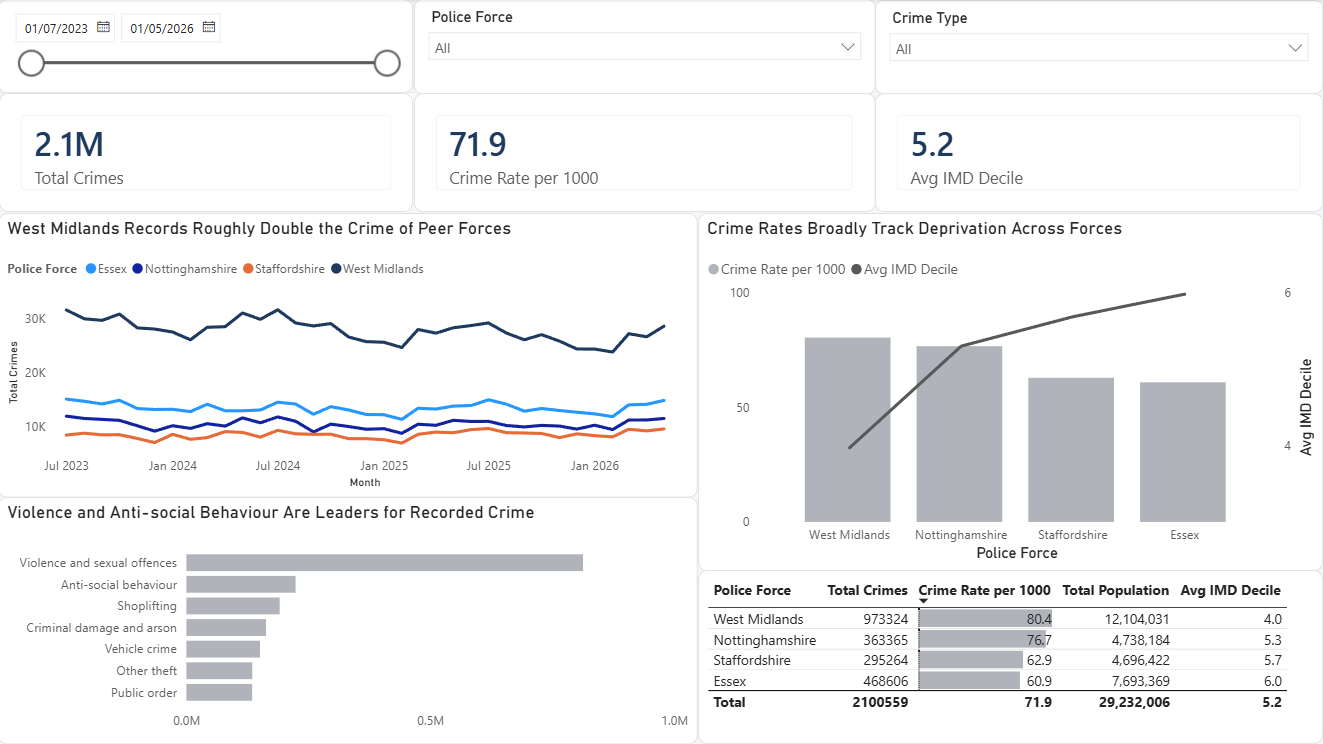

What the dashboard file says about the page in this screenshot:
{"tool":"powerbi","page":{"name":"Overview","canvas":[1280,720],"ordinal":0},"visuals":[{"type":"slicer","fields":{"Values":["reporting_dataset_final.month"]},"box":[0,0,401.4,91],"z":0},{"type":"slicer","fields":{"Values":["reporting_dataset_final.police_force_name"]},"box":[401.4,0,445.9,92],"z":1000},{"type":"cardVisual","fields":{"Data":["reporting_dataset_final.Total Crimes"]},"box":[1,91,400.4,115.3],"z":2000},{"type":"cardVisual","fields":{"Data":["reporting_dataset_final.Crime Rate per 1000"]},"box":[401.4,91,445.9,115.3],"z":3000},{"type":"cardVisual","fields":{"Data":["reporting_dataset_final.Avg IMD Decile"]},"box":[847.3,91,432.7,115.3],"z":4000},{"type":"slicer","fields":{"Values":["reporting_dataset_final.crime_type"]},"box":[847.3,1,432.7,91],"z":5000},{"type":"lineChart","title":"West Midlands Records Roughly Double the Crime of Peer Forces","fields":{"Y":["reporting_dataset_final.Total Crimes"],"Series":["reporting_dataset_final.police_force_name"],"Category":["reporting_dataset_final.month"]},"box":[0,206.3,676.4,275],"z":6000},{"type":"lineStackedColumnComboChart","title":"Crime Rates Broadly Track Deprivation Across Forces","fields":{"Category":["reporting_dataset_final.police_force_name"],"Y2":["reporting_dataset_final.Avg IMD Decile"],"Y":["reporting_dataset_final.Crime Rate per 1000"]},"box":[676.4,206.3,603.6,345.8],"z":7000},{"type":"clusteredBarChart","title":"Violence and Anti-social Behaviour Are Leaders for Recorded Crime","fields":{"Category":["reporting_dataset_final.crime_type"],"Y":["reporting_dataset_final.Total Crimes"]},"box":[0,481.3,676.4,238.6],"z":8000},{"type":"tableEx","title":"Key Metrics by Force","fields":{"Values":["reporting_dataset_final.police_force_name","reporting_dataset_final.Total Crimes","reporting_dataset_final.Crime Rate per 1000","reporting_dataset_final.Total Population","reporting_dataset_final.Avg IMD Decile"]},"box":[676.4,552,603.6,167.8],"z":9000}]}

Visuals, with their boxes in screenshot pixels (x1, y1, x2, y2), scaled from the page's 1280x720 canvas onto the 1323x744 screenshot:
slicer - reporting_dataset_final.month: [0,0,415,94]
slicer - reporting_dataset_final.police_force_name: [415,0,876,95]
cardVisual - reporting_dataset_final.Total Crimes: [1,94,415,213]
cardVisual - reporting_dataset_final.Crime Rate per 1000: [415,94,876,213]
cardVisual - reporting_dataset_final.Avg IMD Decile: [876,94,1322,213]
slicer - reporting_dataset_final.crime_type: [876,1,1322,95]
"West Midlands Records Roughly Double the Crime of Peer Forces" lineChart: [0,213,699,497]
"Crime Rates Broadly Track Deprivation Across Forces" lineStackedColumnComboChart: [699,213,1322,571]
"Violence and Anti-social Behaviour Are Leaders for Recorded Crime" clusteredBarChart: [0,497,699,743]
"Key Metrics by Force" tableEx: [699,570,1322,743]
